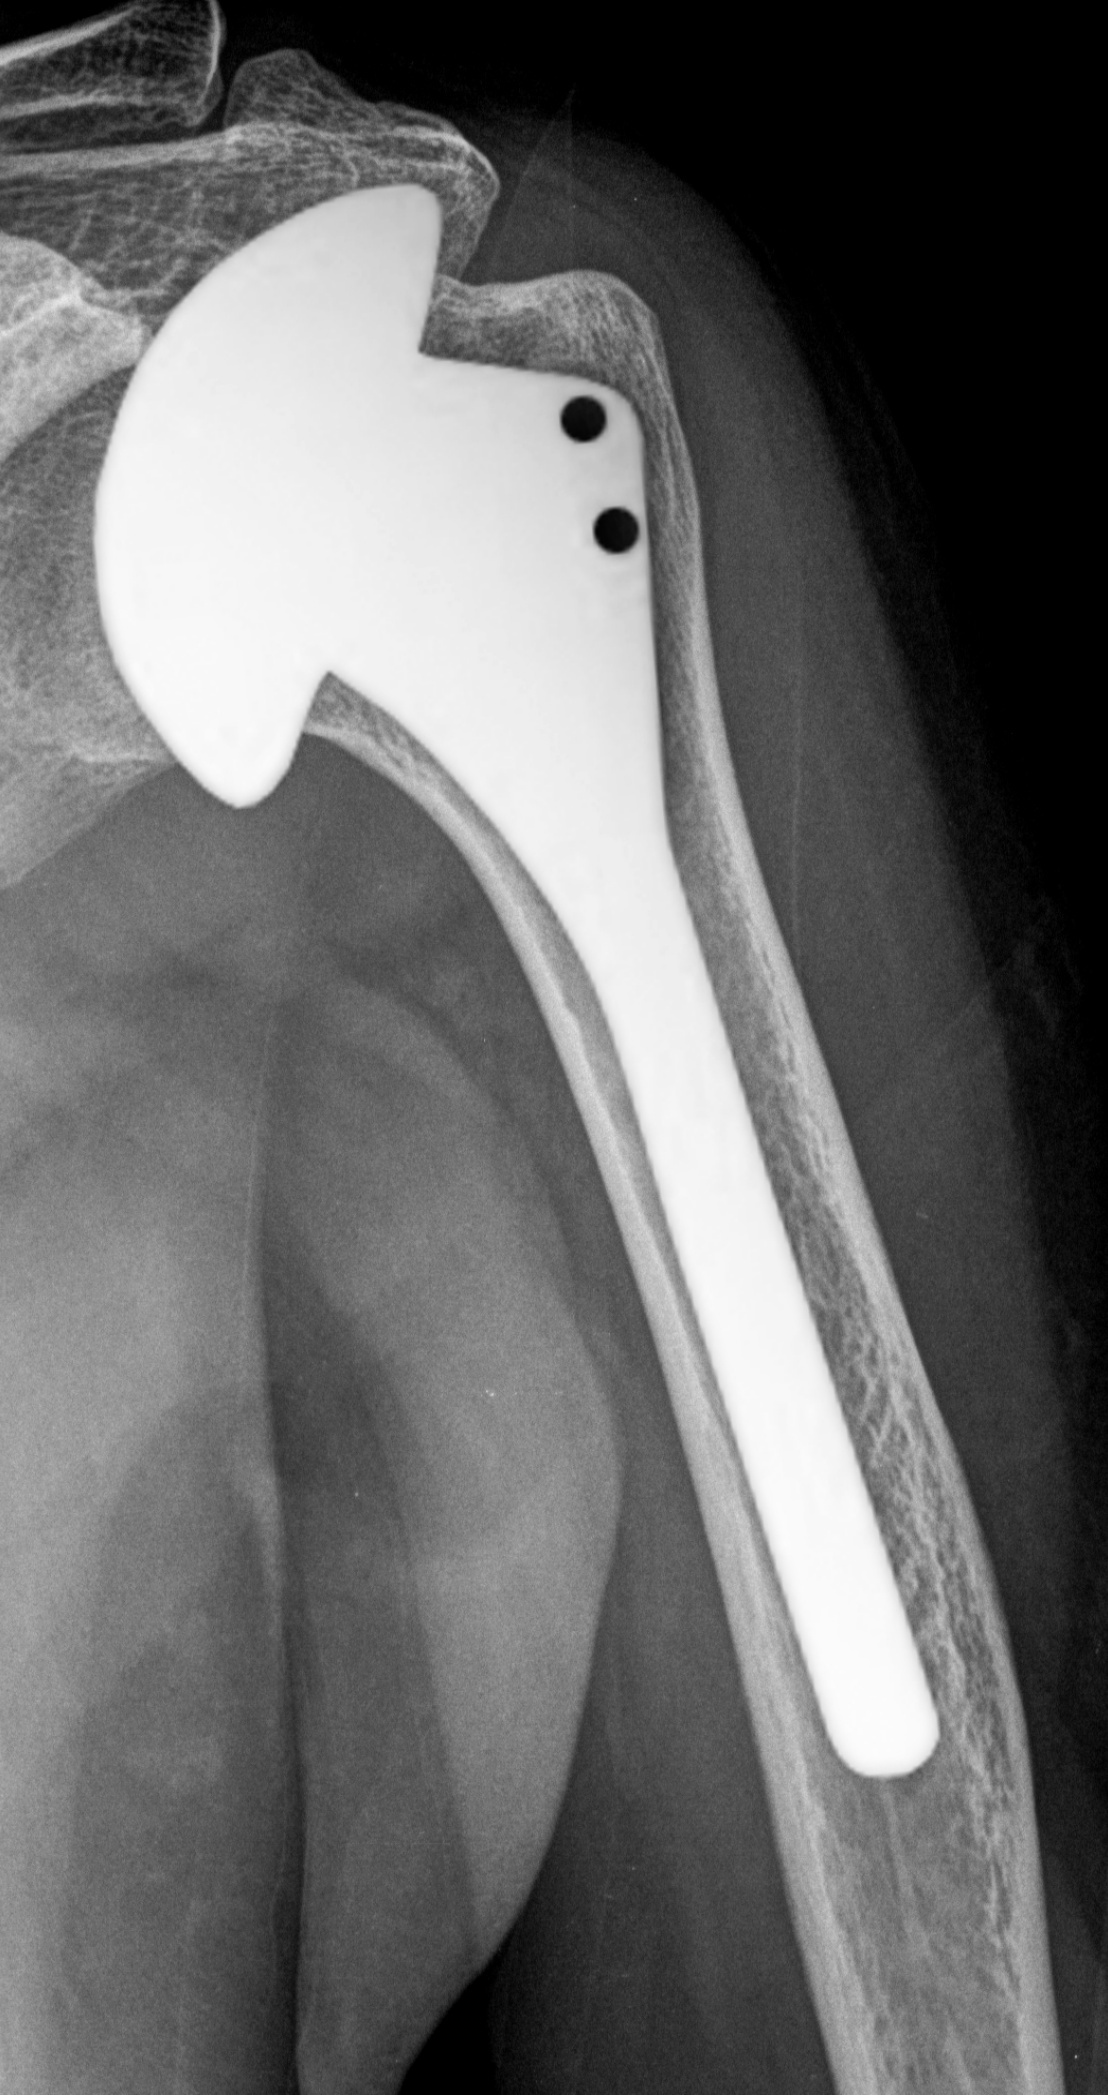Shoulder - Aequalishead - Tornier: (71, 151, 471, 813)
Shoulder - Aequalistail - Tornier: (217, 168, 702, 867)
